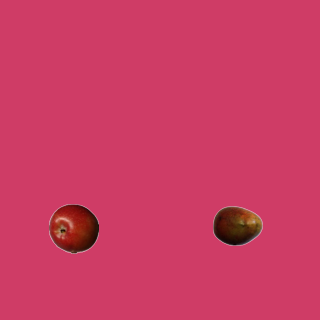Apple Braeburn: (48, 203, 98, 253)
Mango Red: (212, 200, 262, 250)
